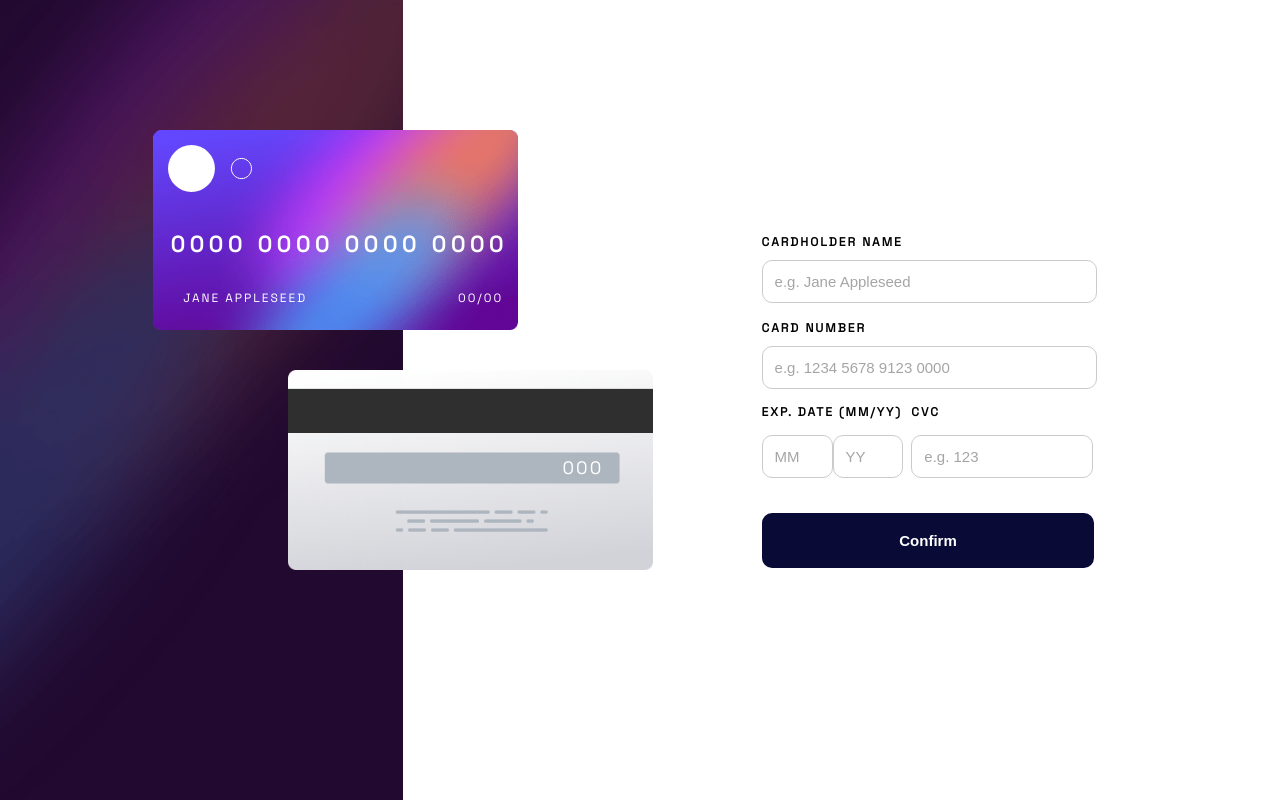
Scenario: App component › Sidebar elements content change › should change card number display when typing in input
Type "1234" into the field with placeholder "e.g. 1234 5678 9123 0000". click: x=929, y=368
box: [762, 346, 1097, 389]
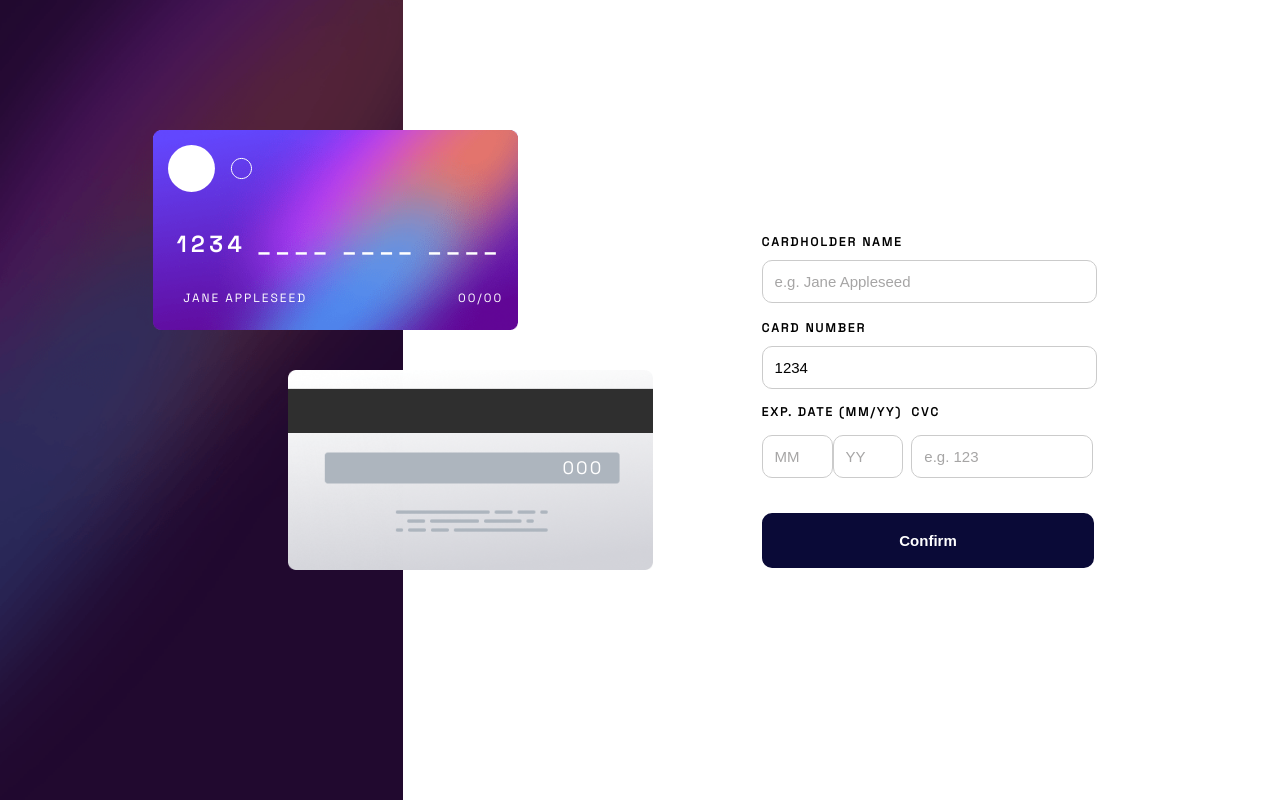
Check: the text with test id "card_num_cont" reads "1234 ____ ____ ____", box [177, 230, 502, 258]
